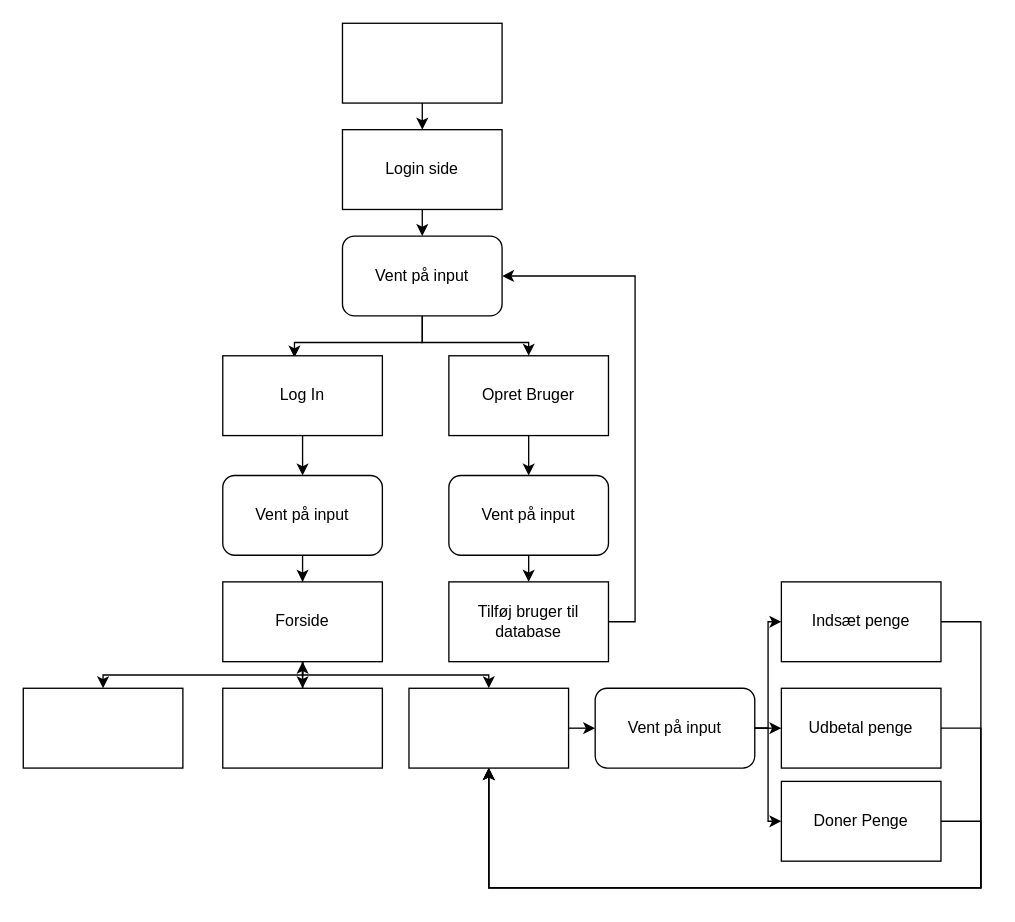
Some shapes in this 1015 by 922 pixel diagram are drawn without their labels. Here are the shapes that lost their labels. From the top down, the box of each, then its label:
(341, 22, 502, 103): Loading Screen
(22, 687, 183, 768): Rangliste
(221, 687, 382, 768): Spil
(408, 687, 569, 768): Konto
